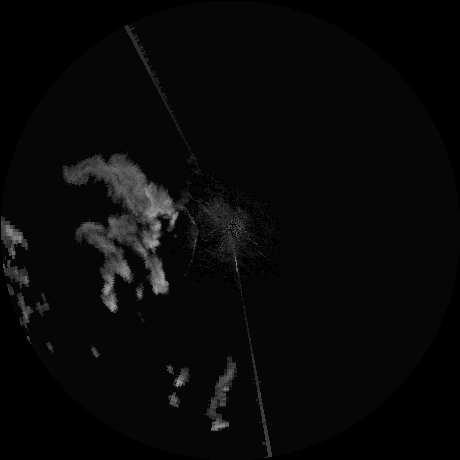frontgust: (183, 209, 199, 264)
